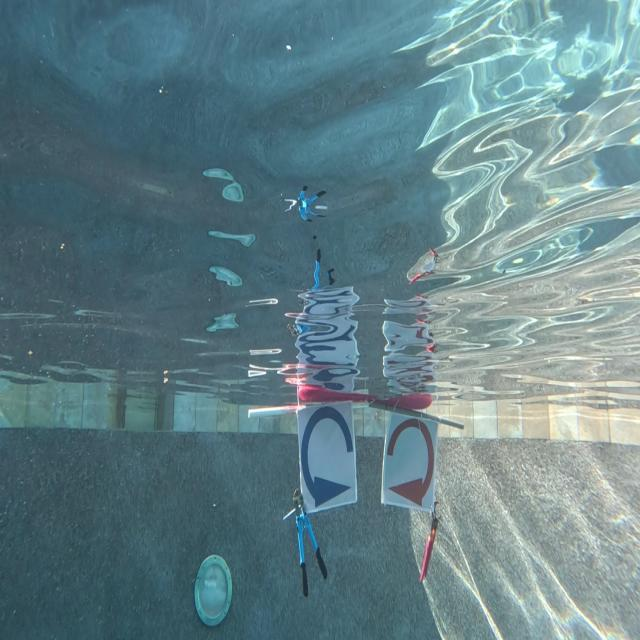blue_side: (300, 409, 358, 503)
red_side: (379, 414, 437, 506)
